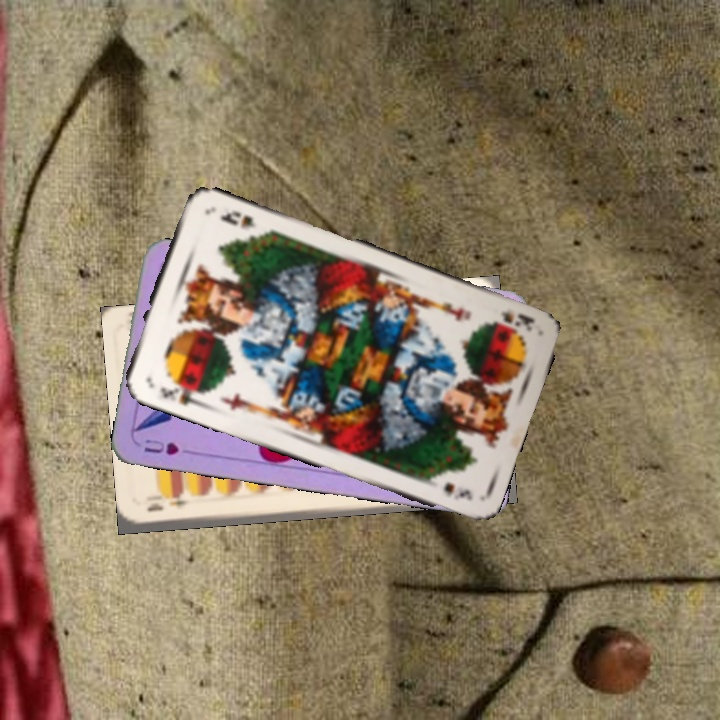E10: (142, 496, 192, 514)
HU: (139, 435, 182, 458)
SK: (156, 377, 205, 409), (489, 307, 538, 335)
